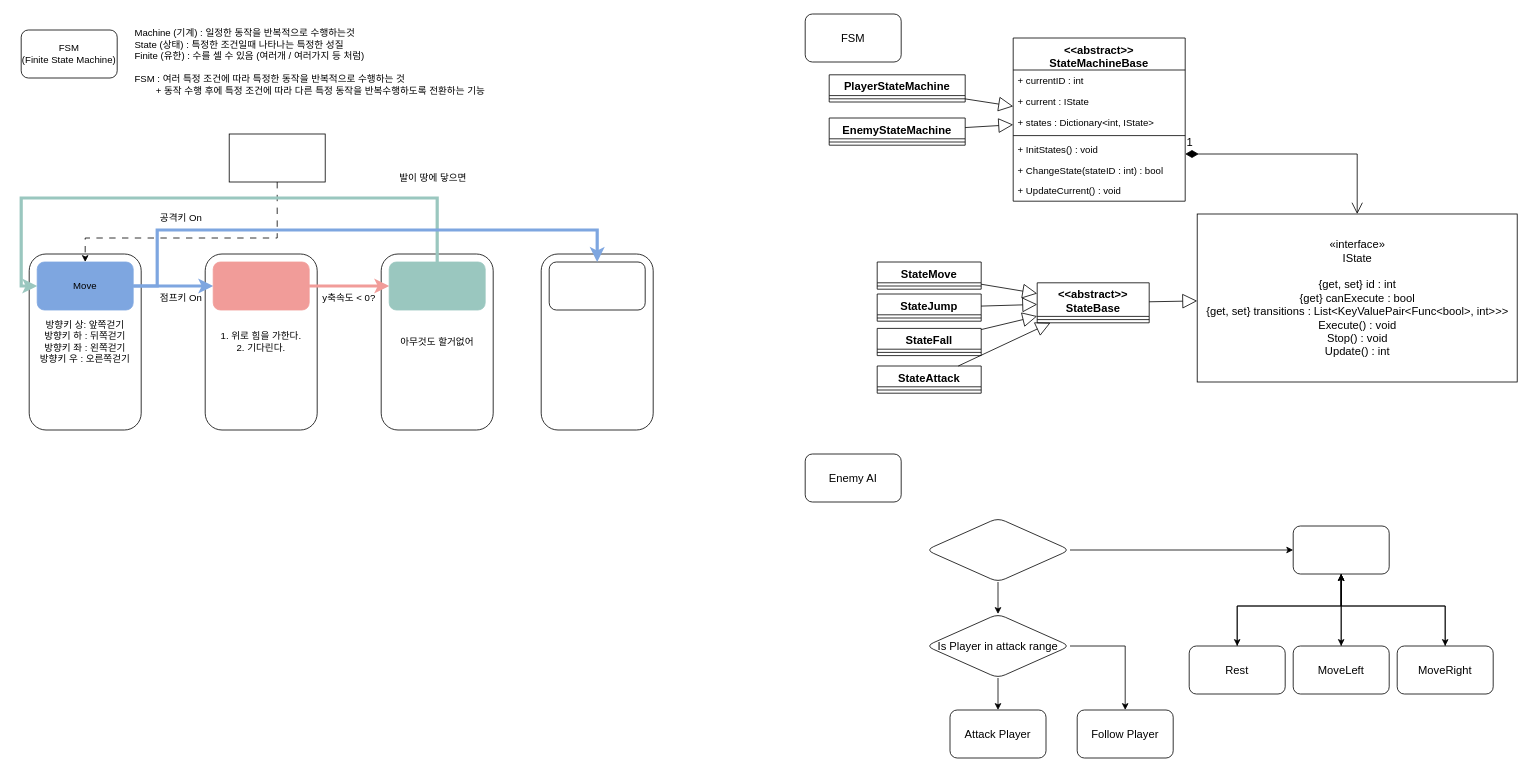
This 1531x772 diagram has some shape labels left out. Each missing label, with the centre of its shape:
Attack: the point at 596,285
Fall: the point at 436,285
Is Player detected: the point at 997,549
Jump: the point at 260,285
Machine: the point at 276,157
Think: the point at 1340,549
